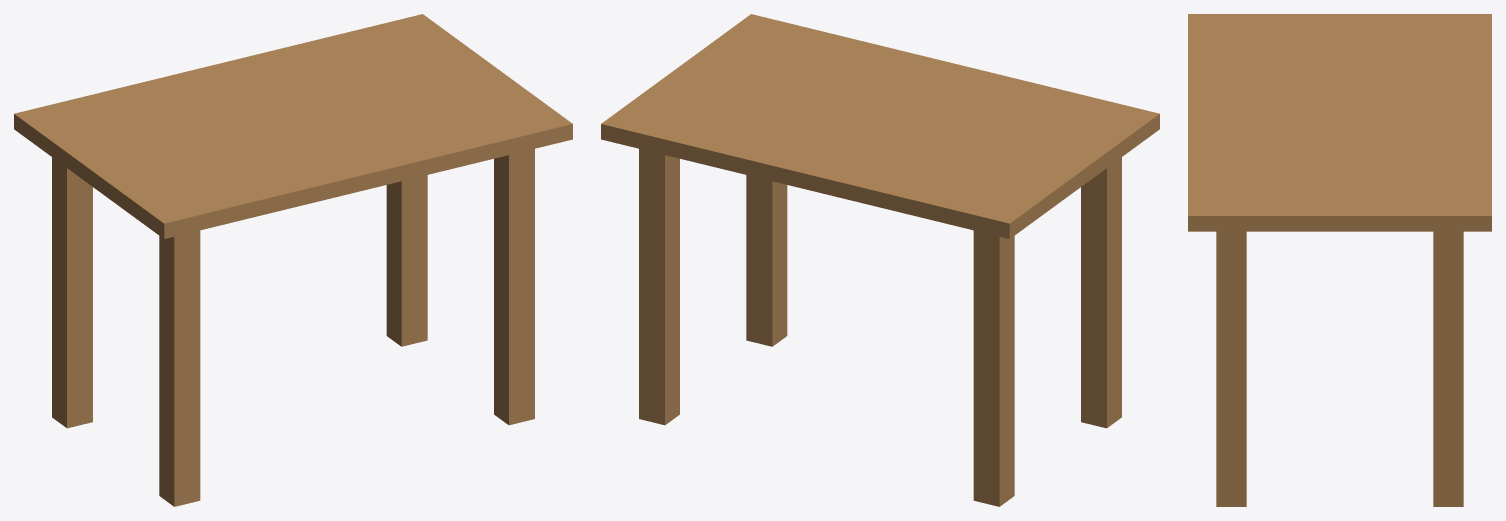
3 renders of one model, left to right at view 1: azimuth 30°, elevation 25°; view 2: azimuth 150°, elevation 25°; view 3: azimuth 270°, elevation 25°, orthographic.
Visible parts, largest first — view 1: mesa_support_s0; view 2: mesa_support_s0; view 3: mesa_support_s0.
Boxes of the visible parts, bbox=[...] form: mesa_support_s0: bbox=[14, 14, 572, 506]; mesa_support_s0: bbox=[601, 14, 1159, 506]; mesa_support_s0: bbox=[1188, 14, 1491, 506].
Size of the model in its own units: 1.1 by 0.7 by 0.77.
